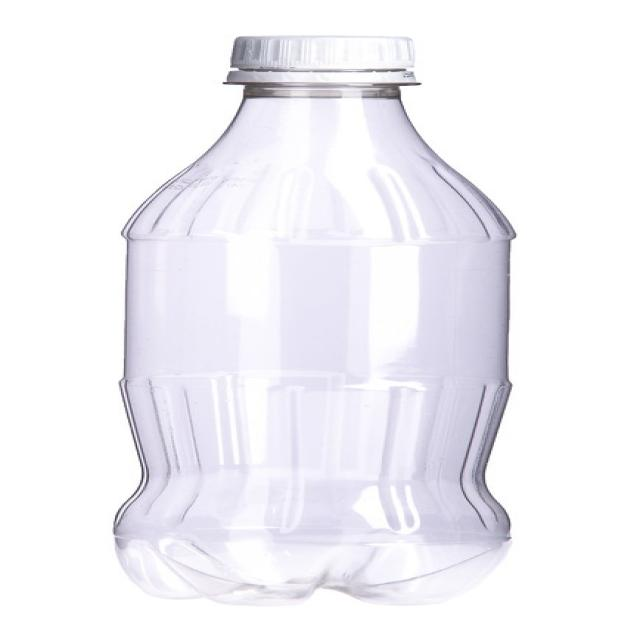plastic_bottle: (113, 34, 517, 607)
